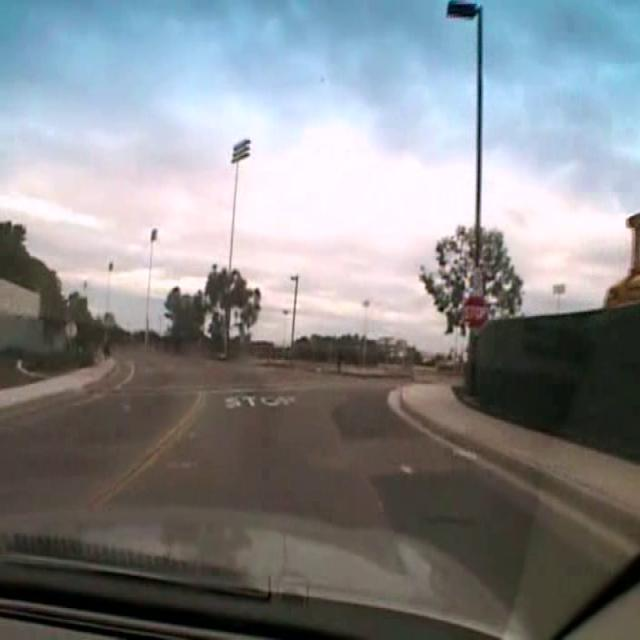stop: (461, 293, 490, 331)
